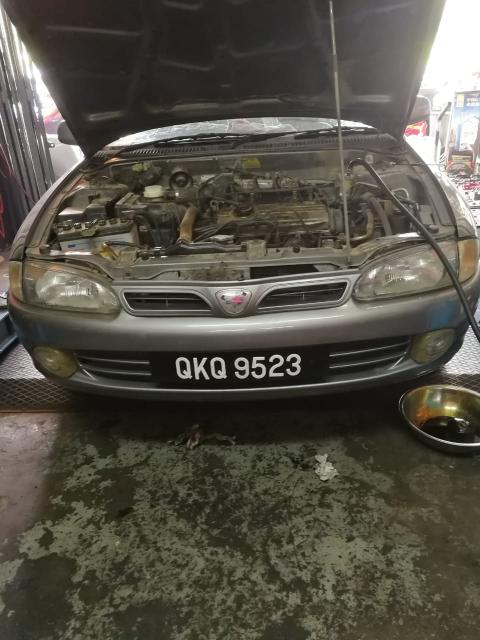License_Plate: (156, 349, 319, 391)
